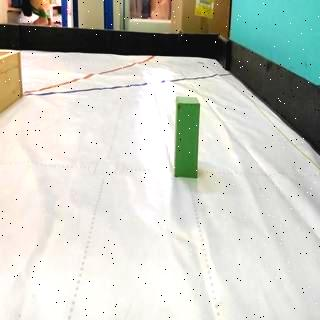greenbox: (174, 94, 200, 177)
